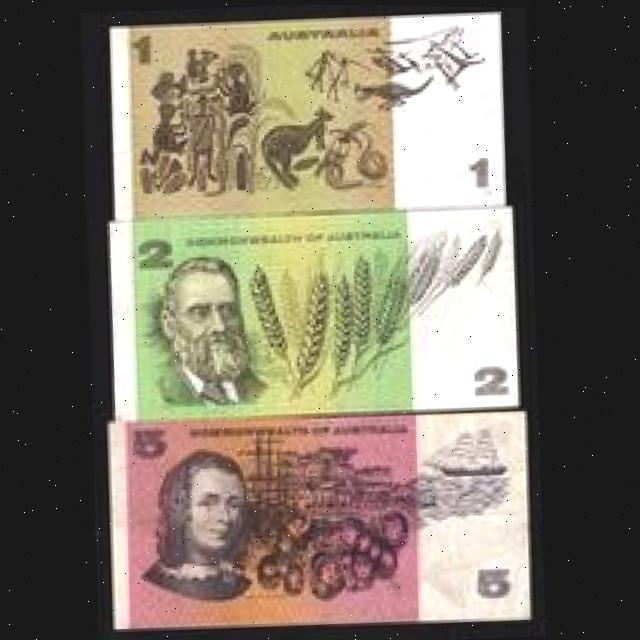banknote: (107, 402, 544, 640), (111, 199, 523, 423), (104, 4, 511, 228)
